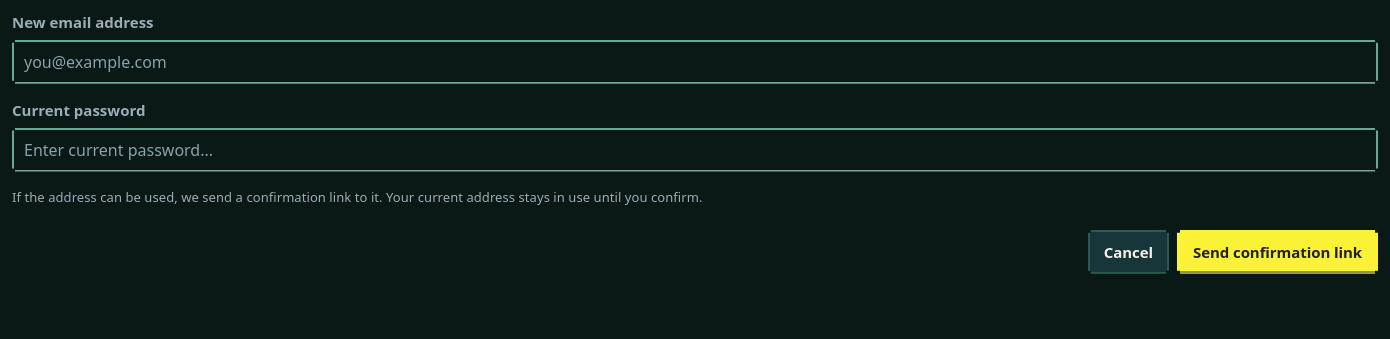
Test case: ChangeEmailForm › both fields are required and the address must look like one
This screenshot has width=1390, height=339.
Click the button "Send confirmation link" at point(1278, 252), box [1177,230,1378,274]
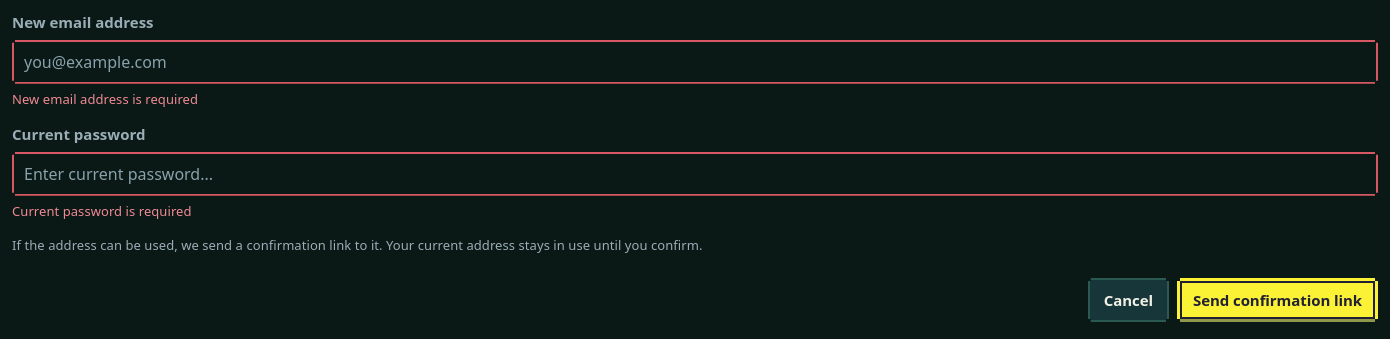
Expected: the text "New email address is required" is shown, [12,90,198,108]
Expected: the text "Current password is required" is shown, [12,202,192,220]
Type "nope" into the field labelled "New email address" at point(695, 62), box [12,40,1378,84]
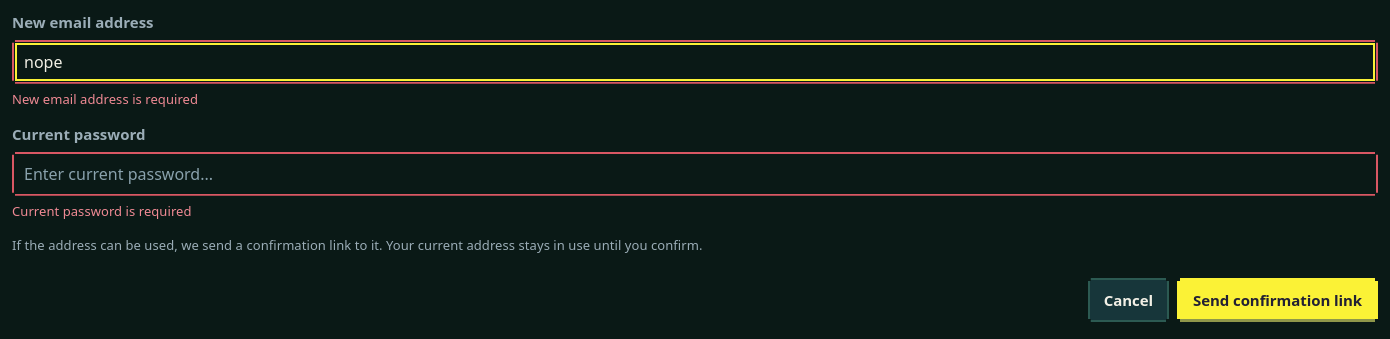
Type "long-enough-1" into the password field labelled "Current password" at point(695, 174), box [12,152,1378,196]
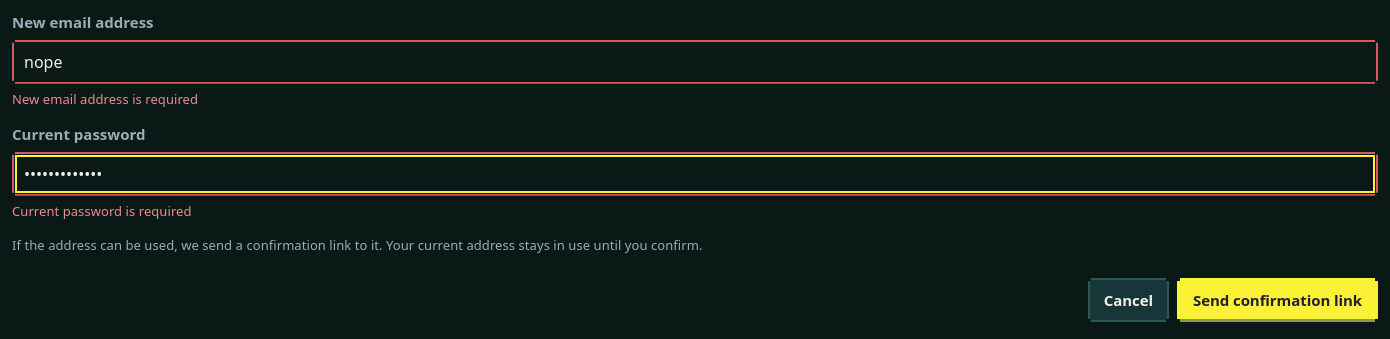
Click the button "Send confirmation link" at point(1278, 300), box [1177,278,1378,322]
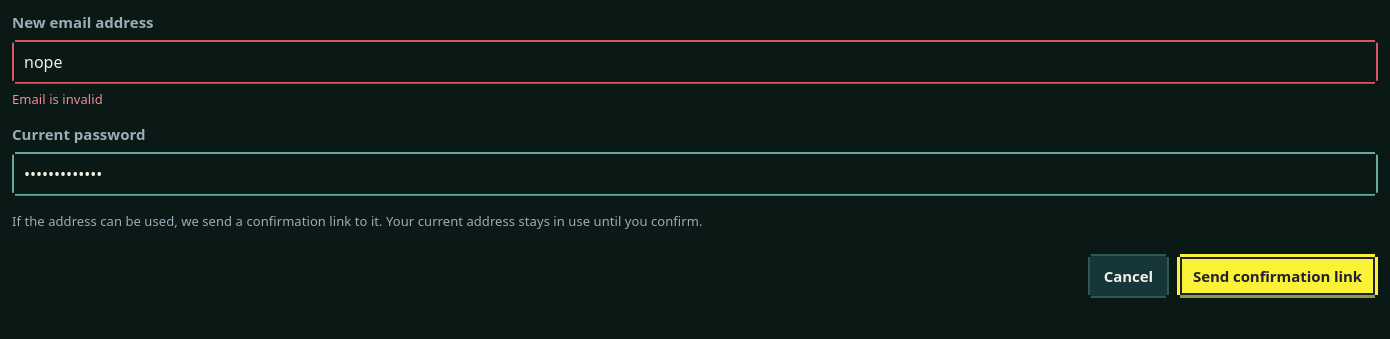
Expected: the text "Email is invalid" is shown, [12,90,103,108]
